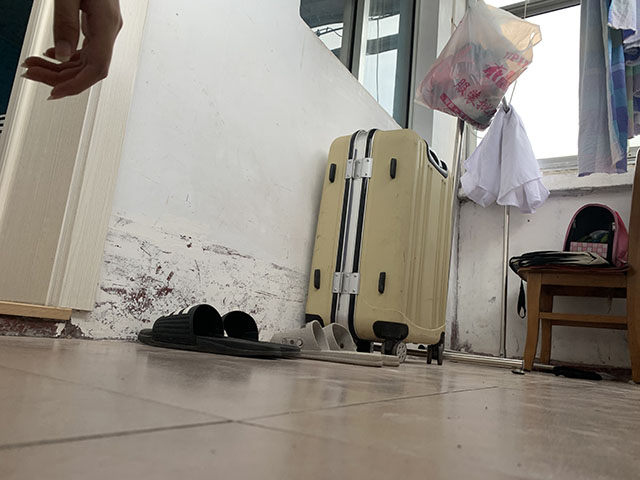slippers: (137, 300, 275, 361), (262, 320, 382, 369)
stool: (515, 149, 640, 384)
